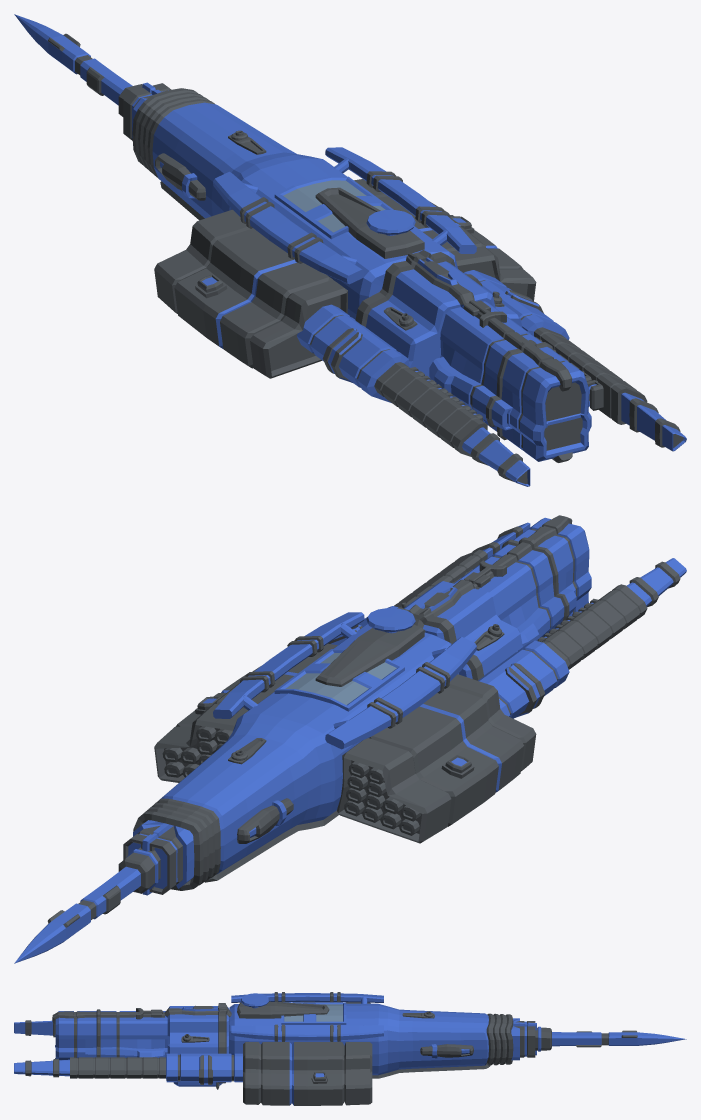
Rendered from Mothership_02_Blue.fbx.
The picture shows the model from 3 angles, top to bottom: view 1: azimuth 30°, elevation 25°; view 2: azimuth 150°, elevation 25°; view 3: azimuth 270°, elevation 25°; orthographic projection. The views are drawn at different scales.
Parts seen in each view (by area): view 1: Mothership_02_Blue; view 2: Mothership_02_Blue; view 3: Mothership_02_Blue.
Part boxes in pixels (x1,y1,x2,y2): Mothership_02_Blue: (14, 14, 686, 486); Mothership_02_Blue: (14, 515, 686, 963); Mothership_02_Blue: (14, 992, 686, 1105).
Size of the model in its own units: 2667 by 1241 by 9550.
3 materials, 3 textured.
